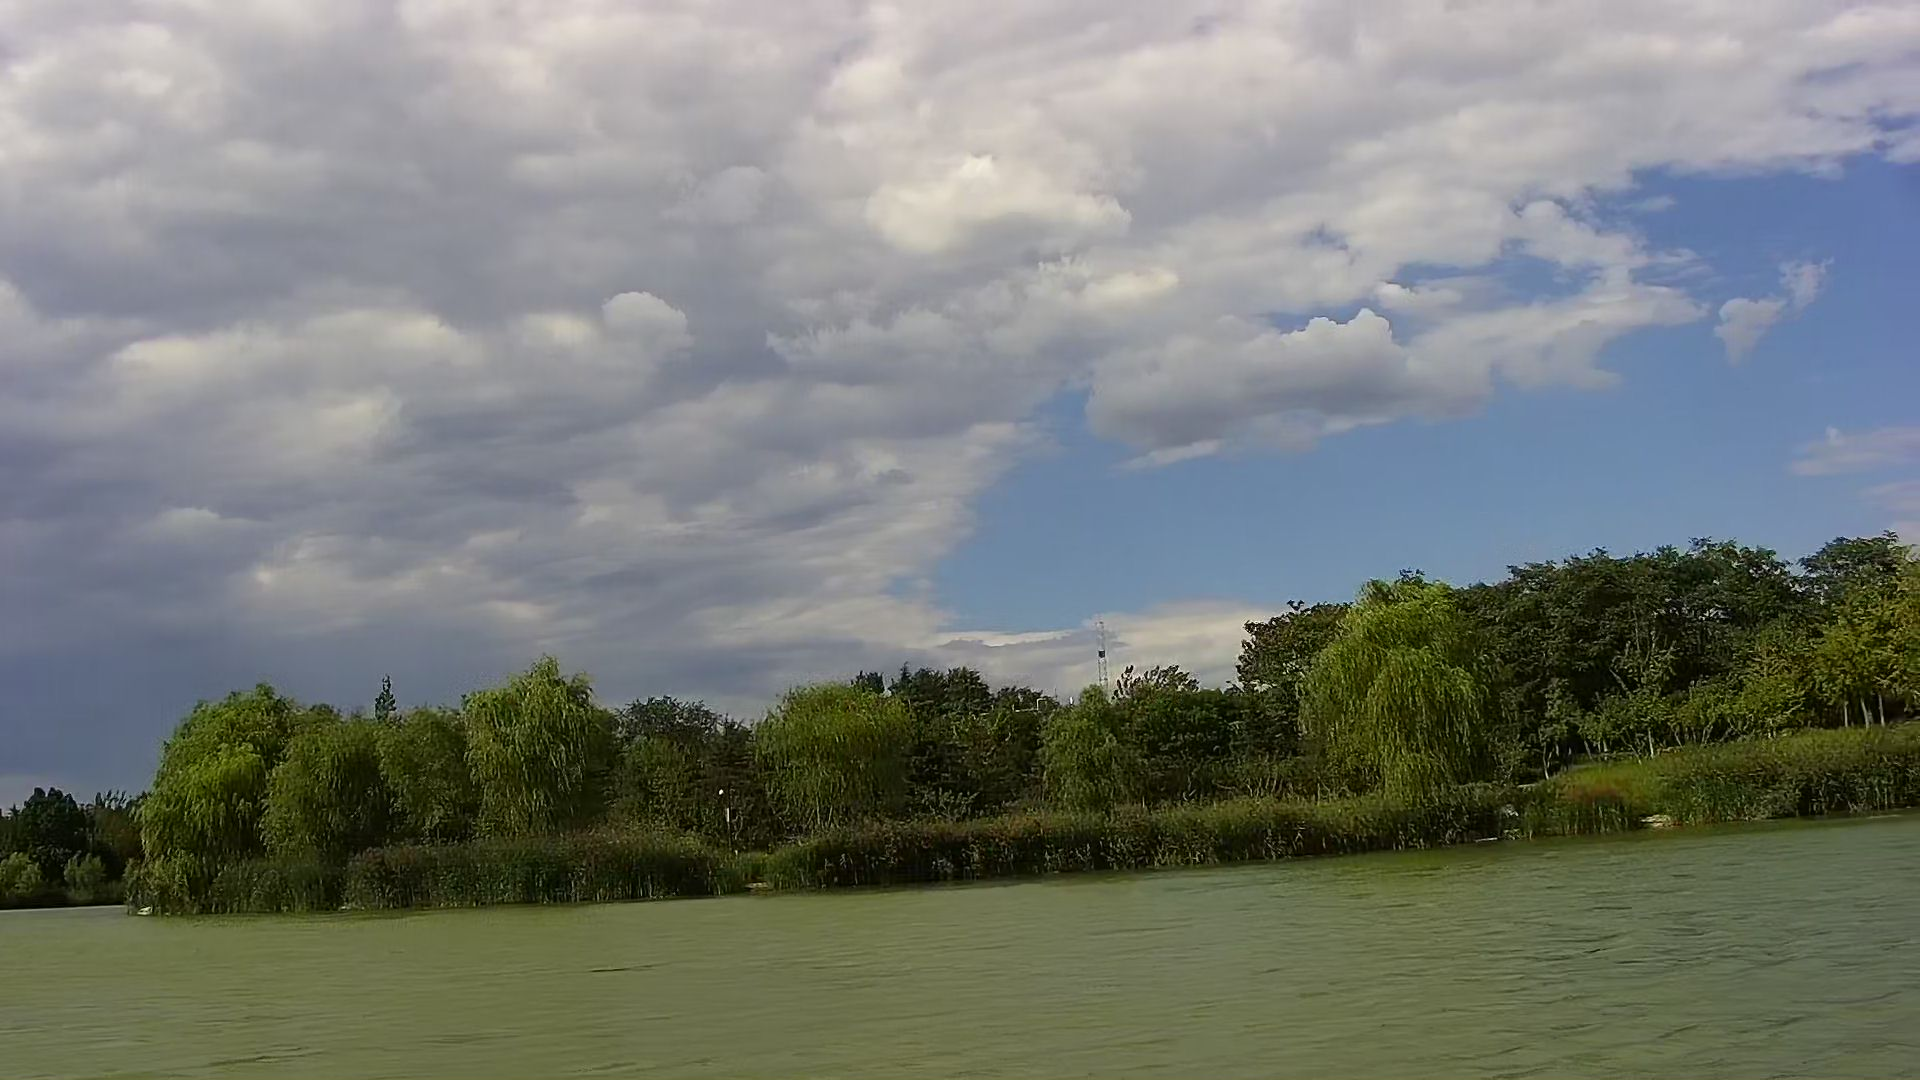rock: (1638, 815, 1676, 827)
